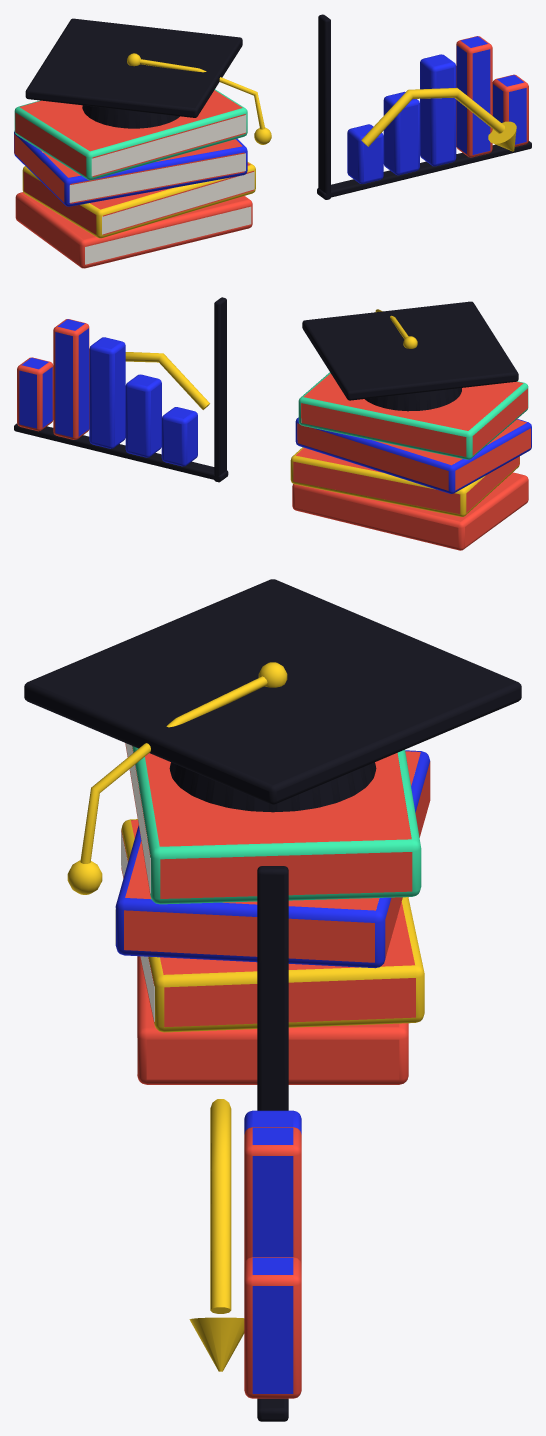
File: oulad.glb
The picture shows the model from 3 angles, top to bottom: view 1: azimuth 30°, elevation 25°; view 2: azimuth 150°, elevation 25°; view 3: azimuth 270°, elevation 25°; orthographic projection. The views are drawn at different scales.
Parts seen in each view (by area): view 1: books, bob_cap, bars, axes, trend; view 2: books, bob_cap, bars, axes, trend; view 3: books, bob_cap, bars, axes, trend.
Part boxes in pixels (left/top/right/bottom): books: left=14, top=89, right=255, bottom=268; bob_cap: left=25, top=18, right=271, bottom=144; bars: left=347, top=36, right=528, bottom=183; axes: left=317, top=14, right=531, bottom=199; trend: left=361, top=88, right=516, bottom=151; books: left=290, top=372, right=531, bottom=550; bob_cap: left=302, top=301, right=518, bottom=411; bars: left=17, top=319, right=197, bottom=466; axes: left=14, top=297, right=228, bottom=482; trend: left=125, top=352, right=209, bottom=409; books: left=115, top=743, right=430, bottom=1084; bob_cap: left=24, top=579, right=521, bottom=894; bars: left=244, top=1110, right=301, bottom=1398; axes: left=257, top=866, right=288, bottom=1421; trend: left=189, top=1099, right=244, bottom=1371.
Bounding box in the file's own units: 11.08 × 4 × 4.76.
